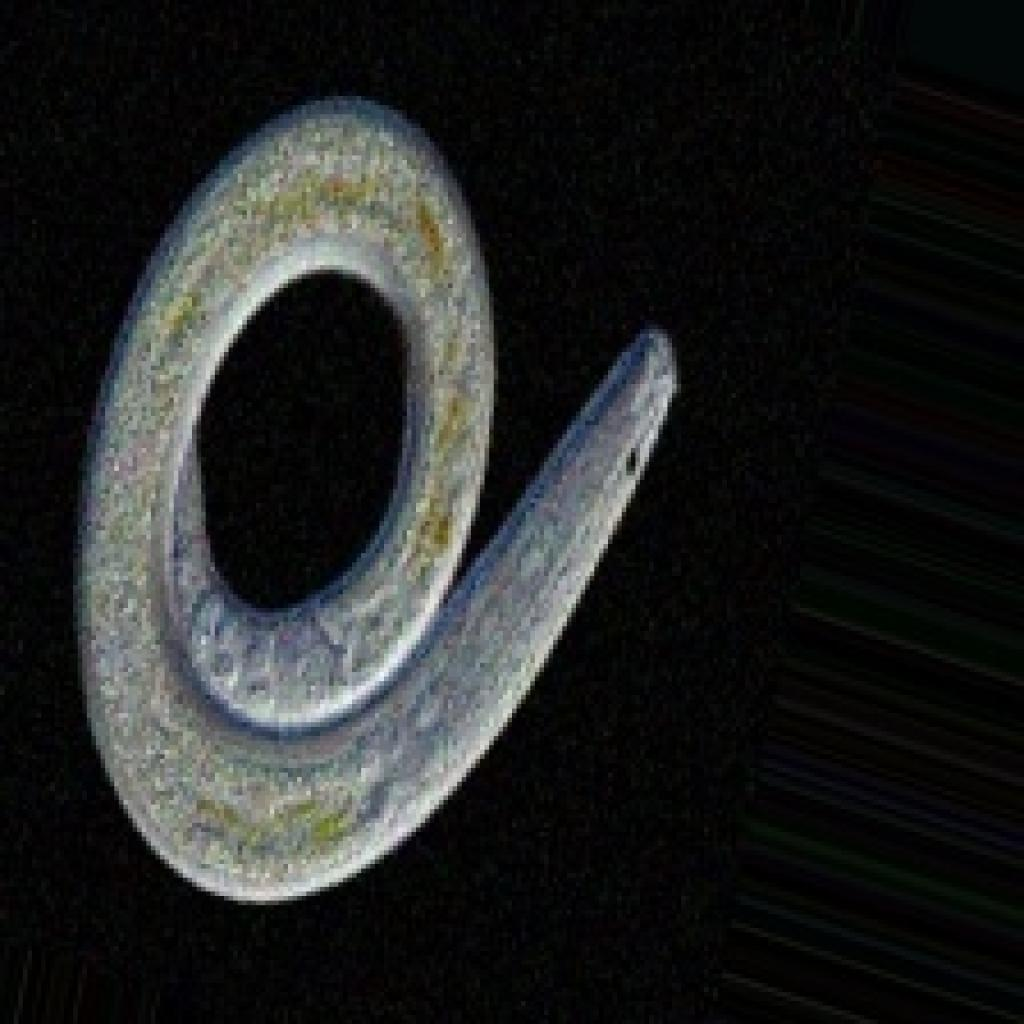Nematode: (69, 87, 681, 905)
